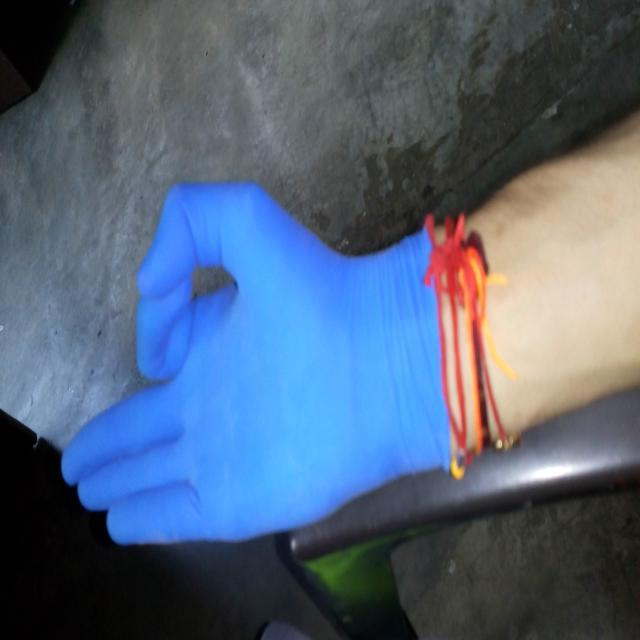gloved_hand: (53, 173, 497, 555)
